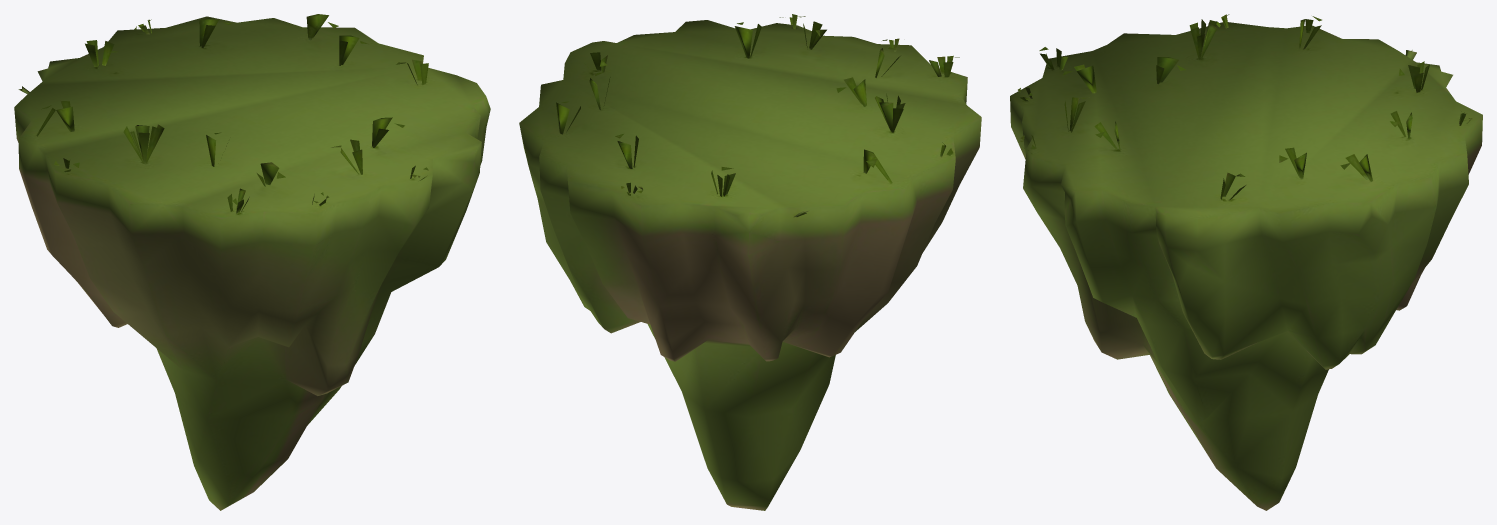
File: tripo_convert_bae21fd1-0234-44d1-ae2d-8076945cbde7.fbx
The picture shows the model from 3 angles, left to right: view 1: azimuth 30°, elevation 25°; view 2: azimuth 150°, elevation 25°; view 3: azimuth 270°, elevation 25°; orthographic projection. The views are drawn at different scales.
Parts seen in each view (by area): view 1: tripo_node_bae21fd1; view 2: tripo_node_bae21fd1; view 3: tripo_node_bae21fd1.
Part boxes in pixels (x1,y1,x2,y2): tripo_node_bae21fd1: [14, 14, 490, 510]; tripo_node_bae21fd1: [519, 14, 981, 510]; tripo_node_bae21fd1: [1010, 14, 1482, 510].
Size of the model in its own units: 0.998 by 0.9902 by 0.998.
1 material, 1 textured.
